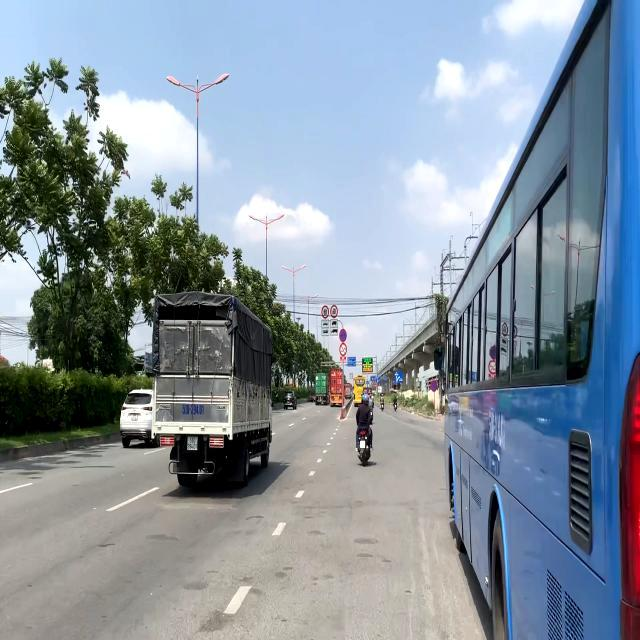Cam dung xe va do xe: (339, 328, 347, 342), (430, 380, 438, 393)
Toc do toi da cho phep: (321, 304, 329, 320), (330, 304, 338, 318)
